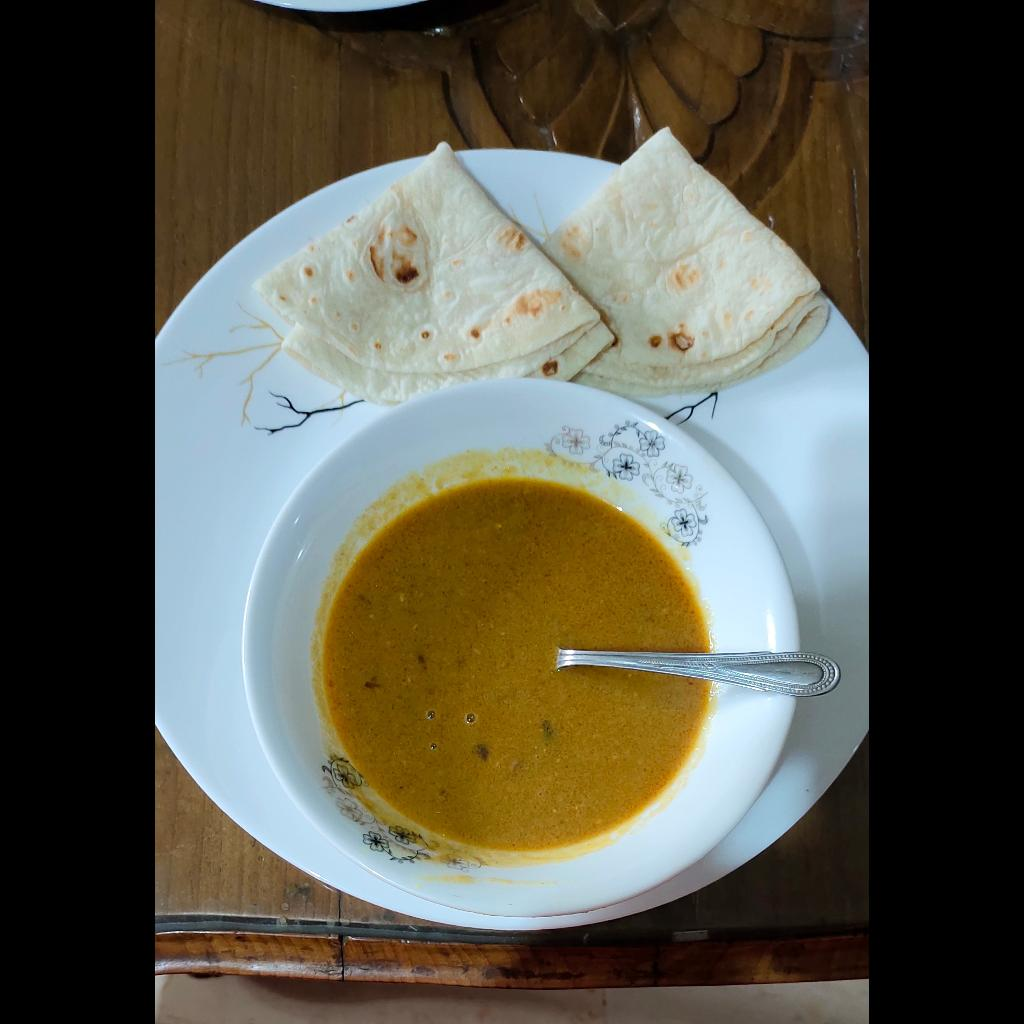daal: (320, 477, 704, 854)
ruti: (252, 125, 831, 405)
